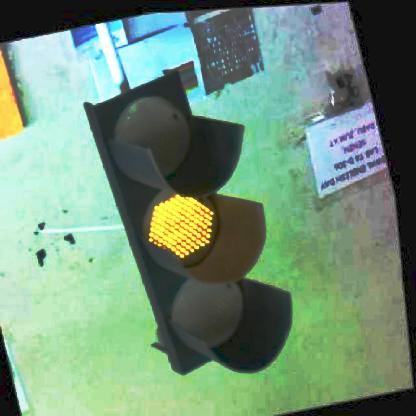Traffic Light -Yellow-: (88, 60, 312, 391)
